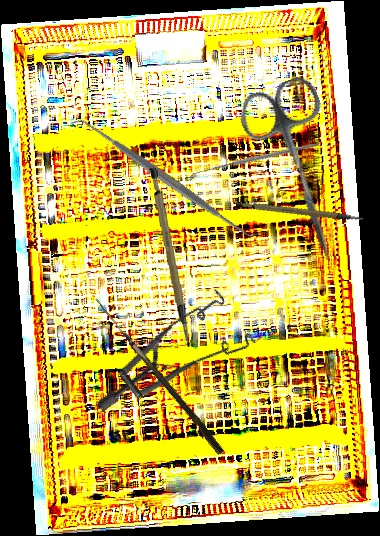Hook Surgical: (88, 297, 227, 456), (189, 110, 320, 214)
Iris Scissors: (233, 72, 370, 273)
Scalpel Handle: (147, 166, 190, 345), (235, 184, 364, 242)
Spatula Surgical: (68, 105, 261, 251)
Speculum: (93, 264, 271, 461)
